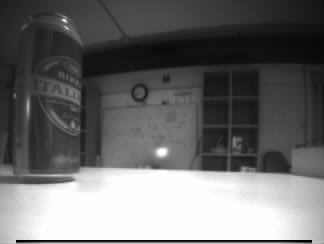Tin can: (7, 11, 83, 184)
